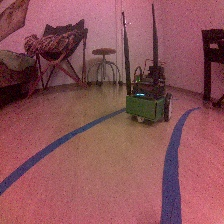rob: (125, 65, 173, 123)
